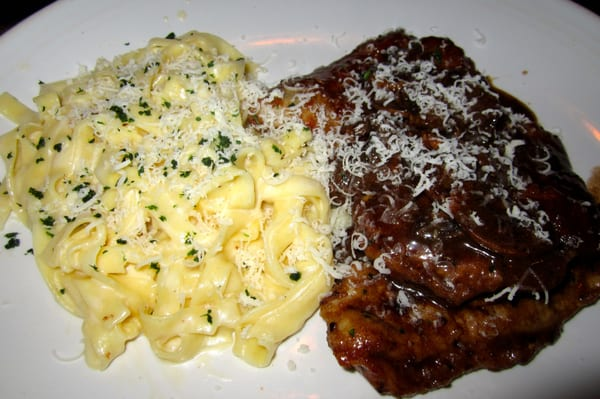sandwich: (4, 21, 599, 394)
